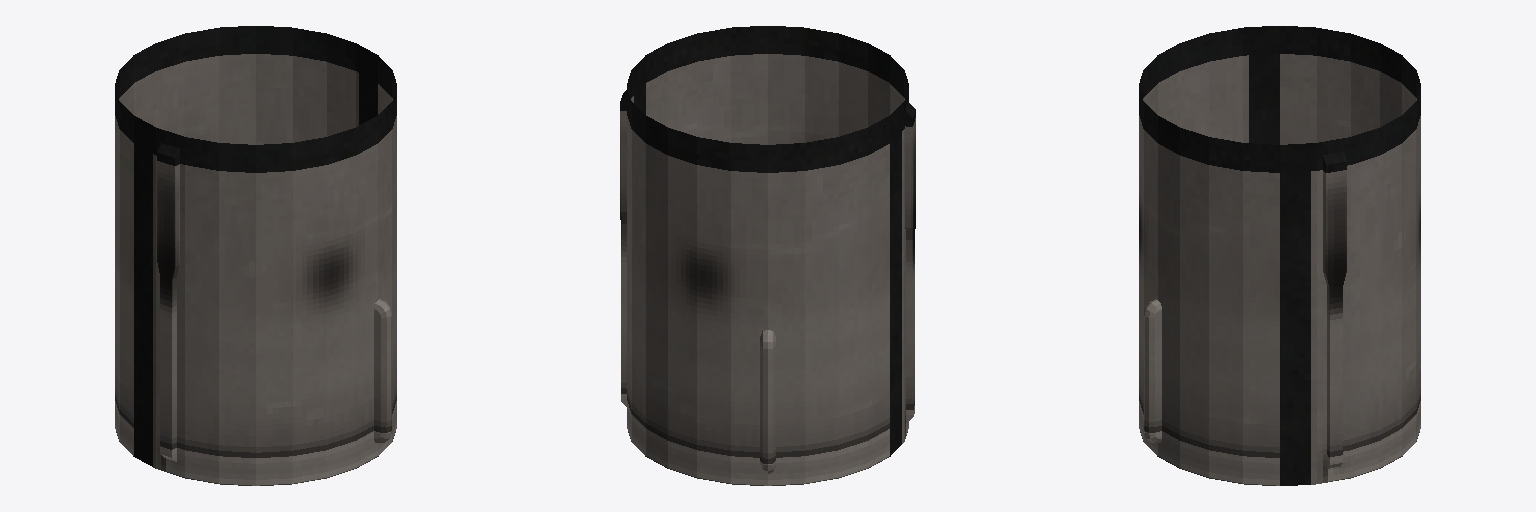
3 renders of one model, left to right at view 1: azimuth 30°, elevation 25°; view 2: azimuth 150°, elevation 25°; view 3: azimuth 270°, elevation 25°, orthographic.
Visible parts, largest first — view 1: mesh2; view 2: mesh2; view 3: mesh2.
Boxes of the visible parts, box(x1,y1,x2,y2) form: mesh2: box(115, 26, 396, 485); mesh2: box(620, 26, 915, 485); mesh2: box(1139, 26, 1420, 485).
Size of the model in its own units: 0.9375 by 1.25 by 0.9375.
Materials: 1 (1 with a texture image).